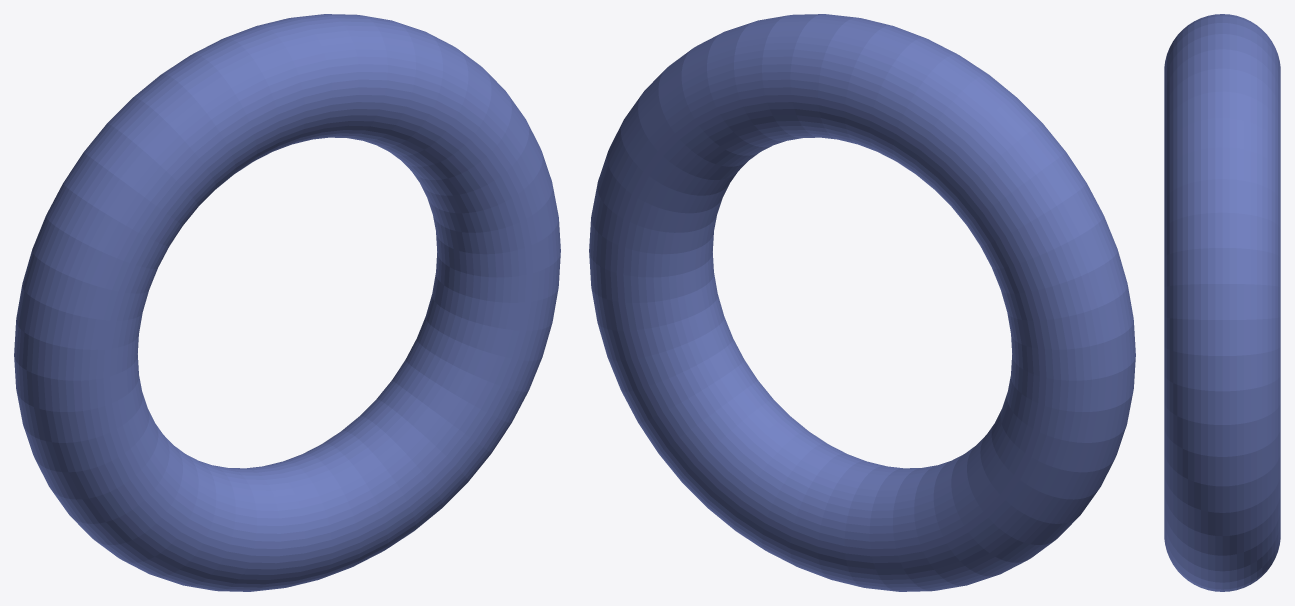
The picture shows the model from 3 angles, left to right: view 1: azimuth 30°, elevation 25°; view 2: azimuth 150°, elevation 25°; view 3: azimuth 270°, elevation 25°; orthographic projection. The views are drawn at different scales.
Parts seen in each view (by area): view 1: world; view 2: world; view 3: world.
Part boxes in pixels (box(x1,y1,x2,y2)): world: box(14, 14, 560, 591); world: box(589, 14, 1135, 591); world: box(1164, 14, 1280, 591).
Size of the model in its own units: 12.53 by 12.51 by 2.53.
